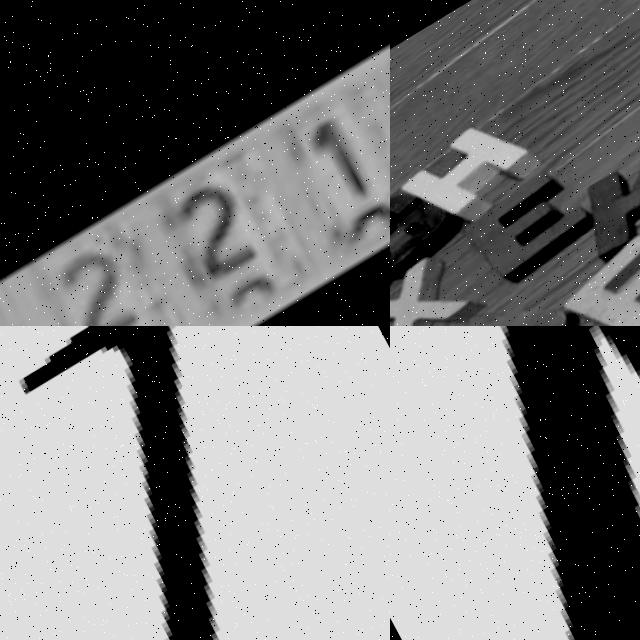1: (0, 326, 390, 640), (283, 99, 390, 235)
2: (153, 164, 282, 312), (36, 225, 155, 326)
A: (390, 326, 640, 640)
E: (462, 164, 592, 295)
F: (561, 227, 640, 326)
G: (390, 170, 457, 283)
H: (406, 111, 532, 234)
J: (445, 275, 580, 326)
K: (566, 135, 640, 274)
X: (390, 234, 485, 326)
